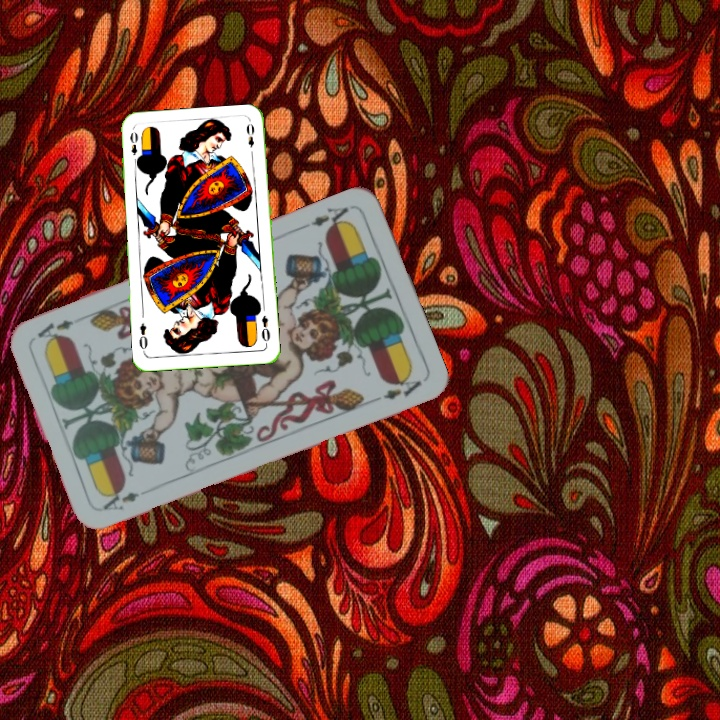EA: (306, 202, 352, 234), (98, 485, 142, 514)
EO: (126, 128, 142, 167), (257, 311, 273, 347)
